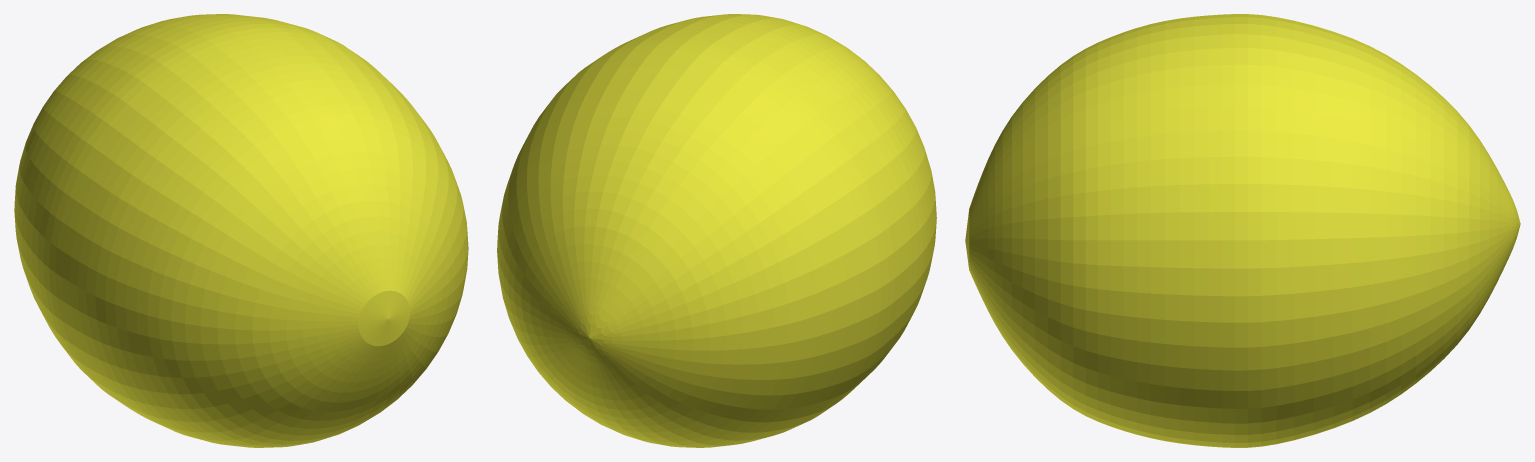
The model's file is lemon.fbx.
The picture shows the model from 3 angles, left to right: view 1: azimuth 30°, elevation 25°; view 2: azimuth 150°, elevation 25°; view 3: azimuth 270°, elevation 25°; orthographic projection. The views are drawn at different scales.
Visible parts, largest first — view 1: Circle; view 2: Circle; view 3: Circle.
Boxes of the visible parts, bbox=[...] form: Circle: bbox=[14, 14, 468, 447]; Circle: bbox=[497, 14, 936, 447]; Circle: bbox=[965, 14, 1520, 447].
Size of the model in its own units: 613 by 613 by 783.
